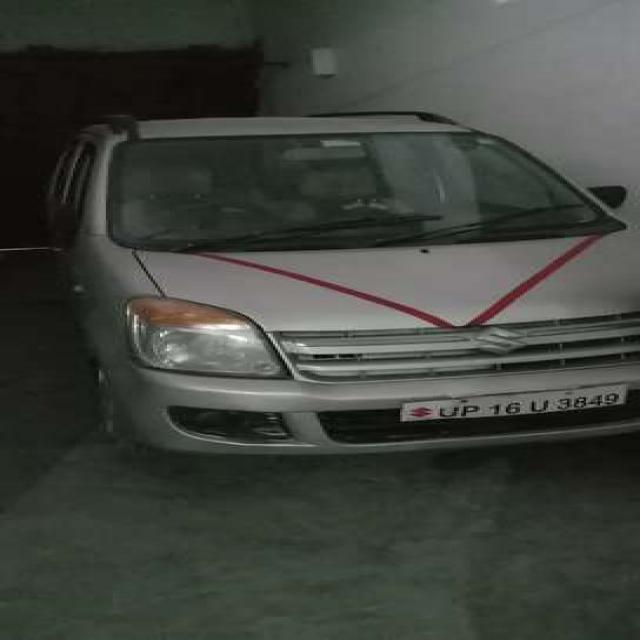Plate: (397, 382, 625, 423)
